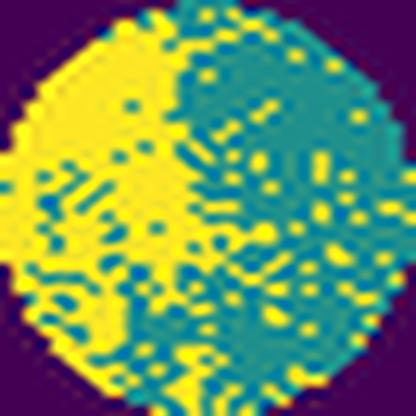Edge-Loc: (0, 9, 270, 395), (156, 341, 230, 413)
